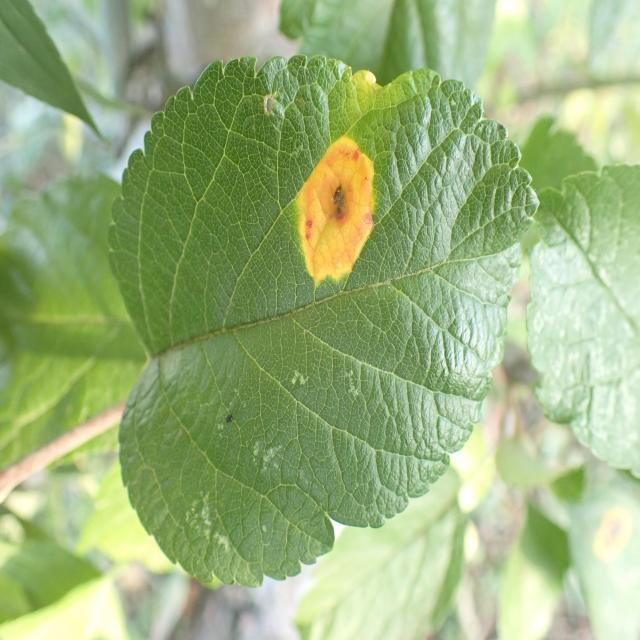Rust: (270, 113, 398, 314)
